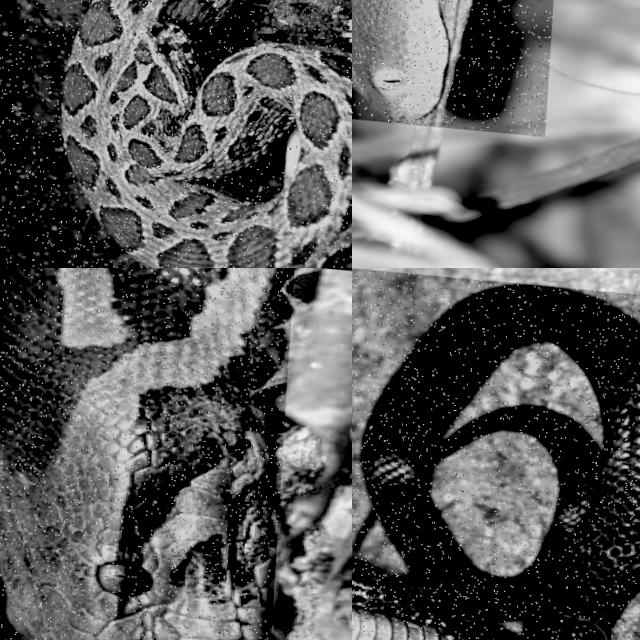Daboia siamensis: (63, 0, 351, 267)
Naja kaouthia: (362, 283, 639, 639)
Python bivittatus: (0, 268, 292, 639)
Trimeresurus macrops: (352, 0, 448, 122)
